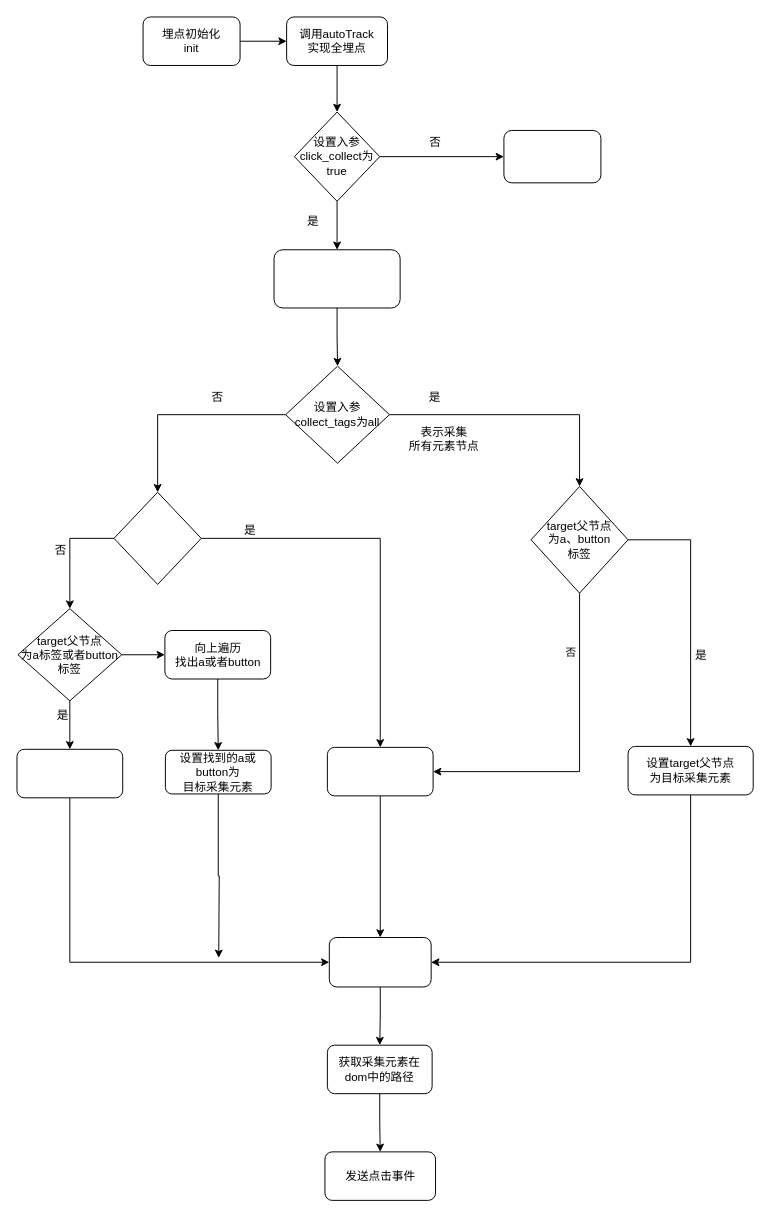
The diagram is 770 pixels wide and 1217 high, and some of its shapes have lost their labels. The shapes that lost their labels are listed below. From the top down, each one's centre as x and y in pixels, then its label:
At (552,156): "不自动采集 点击事件".
At (336,278): "document在捕获阶段 添加全局事件监听".
At (157,537): "target为a、button、input或textarea标签".
At (69,773): "设置target父节点为 目标采集元素".
At (379,771): "设置target为 目标采集元素".
At (379,962): "收集采集元素信息".
